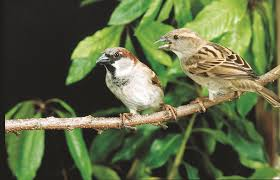hsparrow: (154, 25, 280, 113), (93, 45, 177, 154)
